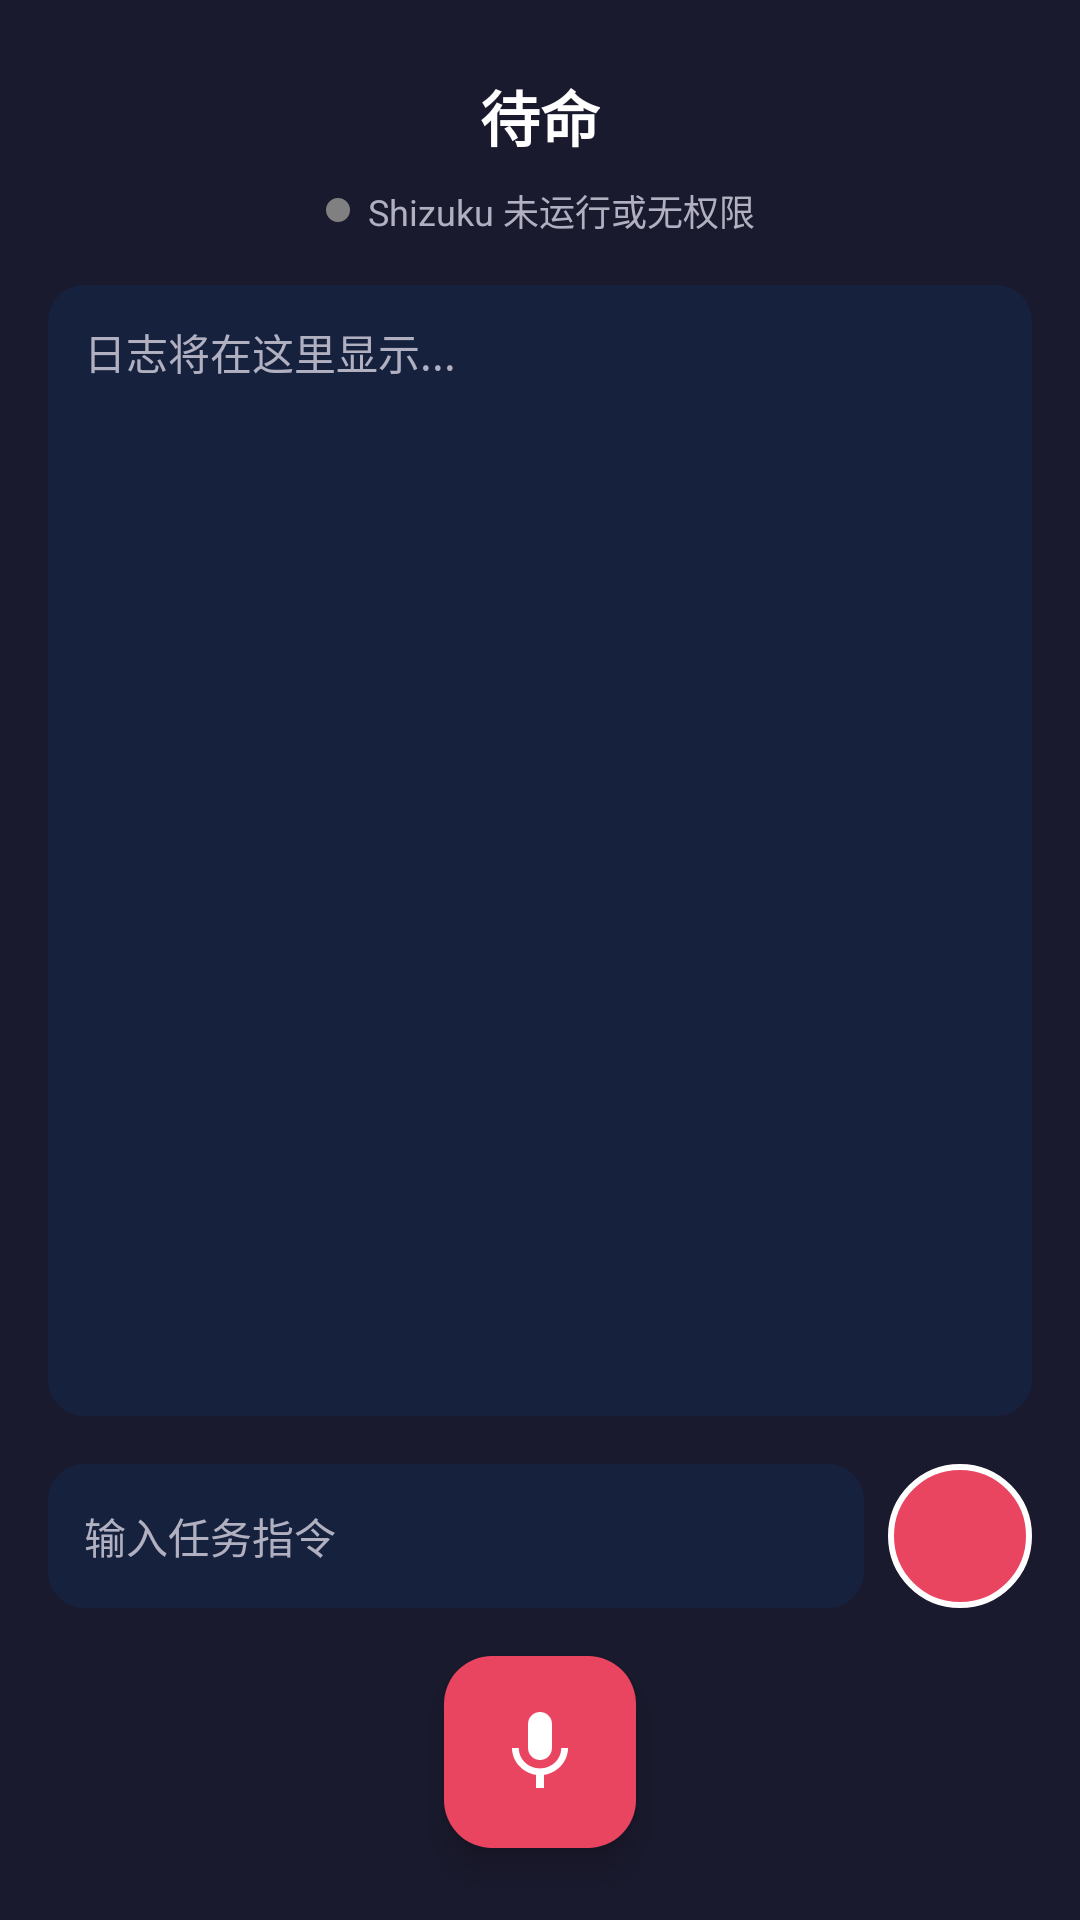

Named icons in this screenshot (1080px x 1920px) and their bounding boxes, box(x1, y1, x2, y2):
开始语音输入: box(444, 1656, 636, 1848)
